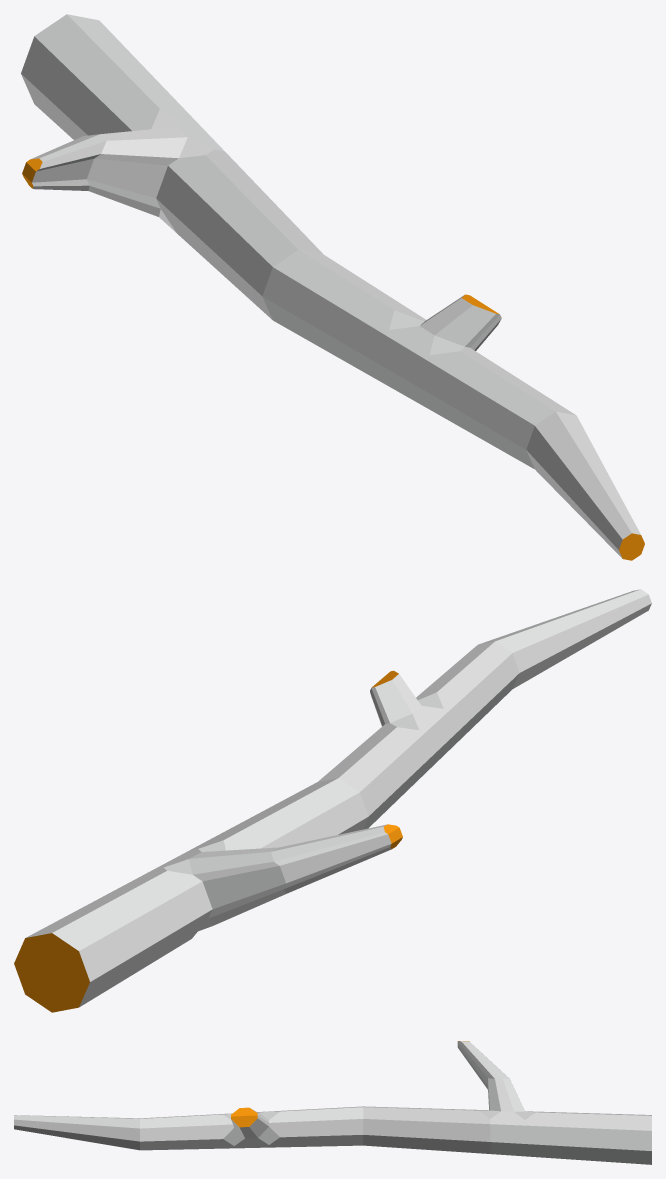
Rendered from Stick_21.fbx.
3 views of the same model, one above another, from view 1: azimuth 30°, elevation 25°; view 2: azimuth 150°, elevation 25°; view 3: azimuth 270°, elevation 25° (orthographic). The views are drawn at different scales.
Parts seen in each view (by area): view 1: Circle.220; view 2: Circle.220; view 3: Circle.220.
Part boxes in pixels (x1=…): Circle.220: x1=21, y1=14, x2=644, y2=560; Circle.220: x1=14, y1=589, x2=651, y2=1012; Circle.220: x1=14, y1=1041, x2=651, y2=1164.
Bounding box in the file's own units: 10.19 × 4.97 × 40.94.
